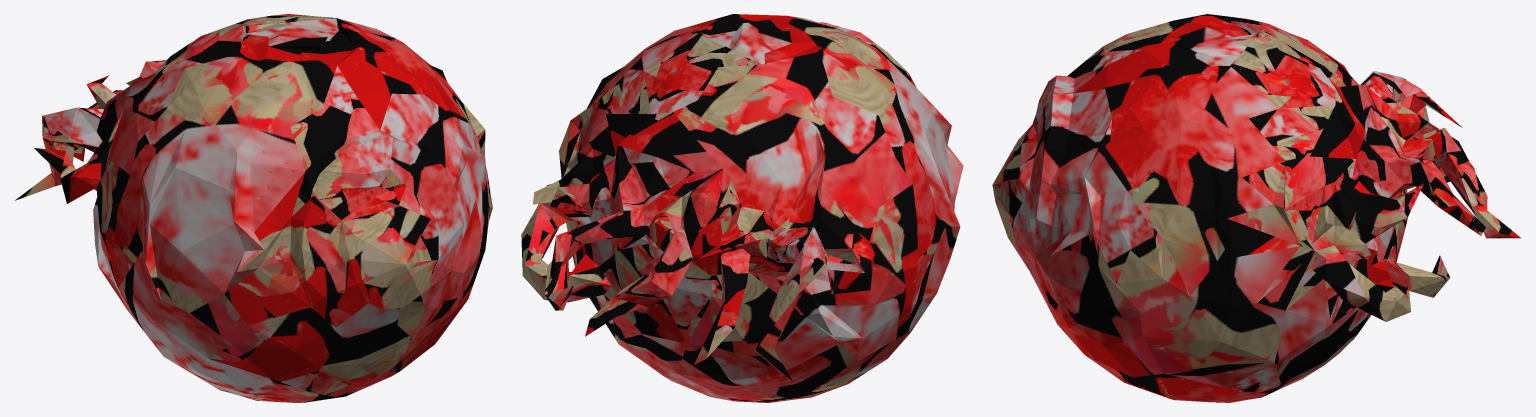
3 views of the same model, side by side, from view 1: azimuth 30°, elevation 25°; view 2: azimuth 150°, elevation 25°; view 3: azimuth 270°, elevation 25° (orthographic).
Bounding box in the file's own units: 0.7025 × 0.6866 × 0.937.
